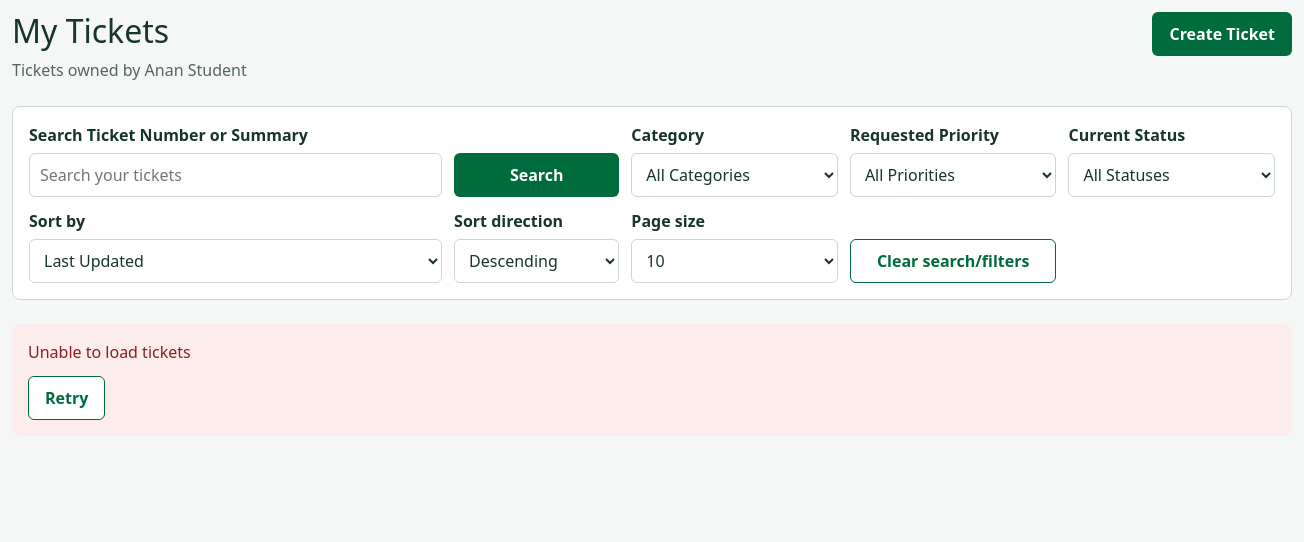
Scenario: UI-06 My Tickets states › shows safe Failure text and retries the current query
Check: the message shows "Unable to load tickets", box 28,341 -> 191,363
Click the button "Retry". click: (67, 398)
box: 28,376 -> 105,420
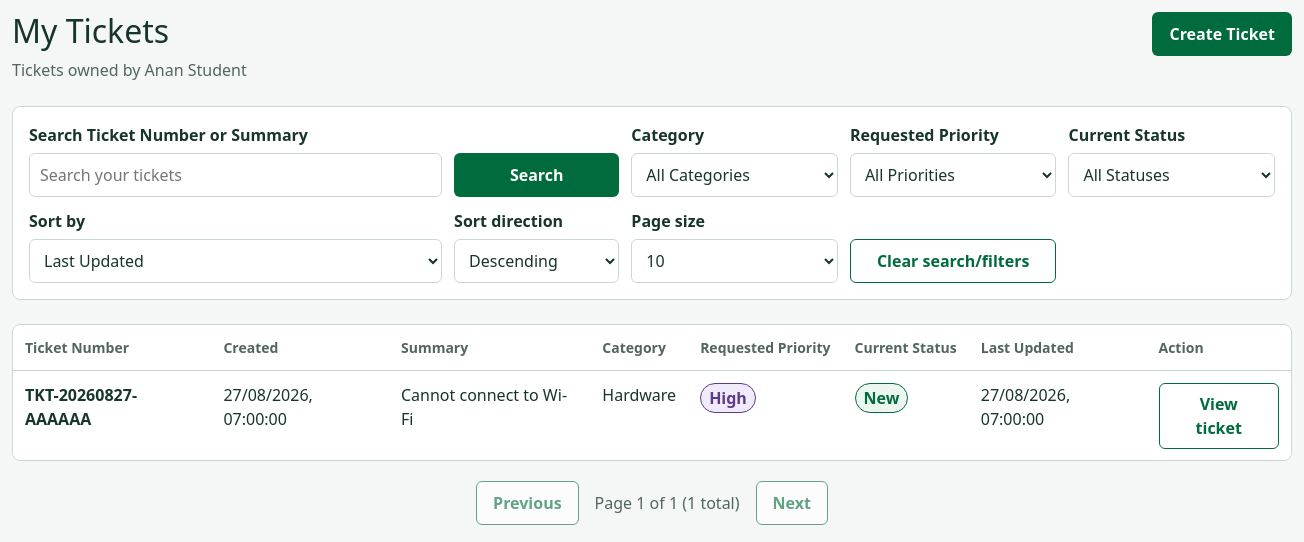
Check: the text "Cannot connect to Wi-Fi" is shown, box 389,371 -> 590,461
